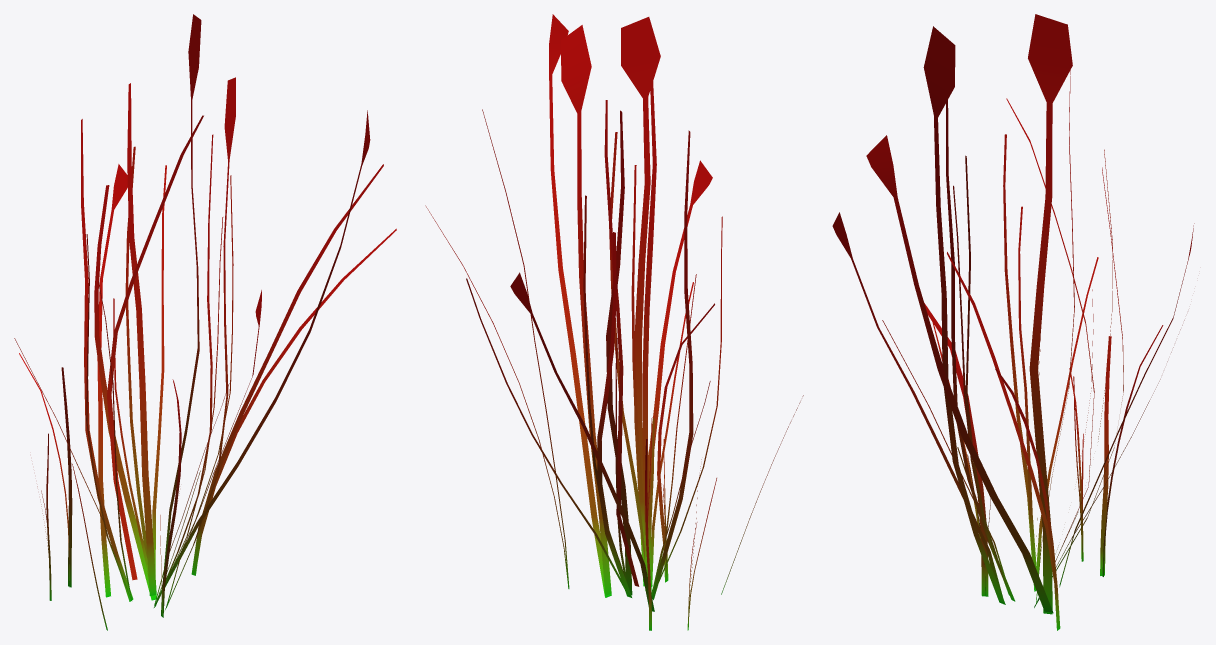
The model's file is Softstem Bulrush_LOD2_Var2_uehjcafia.fbx.
3 views of the same model, side by side, from view 1: azimuth 30°, elevation 25°; view 2: azimuth 150°, elevation 25°; view 3: azimuth 270°, elevation 25° (orthographic). The views are drawn at different scales.
Parts seen in each view (by area): view 1: _4f5b_Var2_LOD2; view 2: _4f5b_Var2_LOD2; view 3: _4f5b_Var2_LOD2.
Boxes of the visible parts, x1,y1,x2,y2 form: _4f5b_Var2_LOD2: (14,14,396,630); _4f5b_Var2_LOD2: (425,14,803,630); _4f5b_Var2_LOD2: (832,14,1194,630).
Size of the model in its own units: 64.24 by 98.62 by 53.3.
